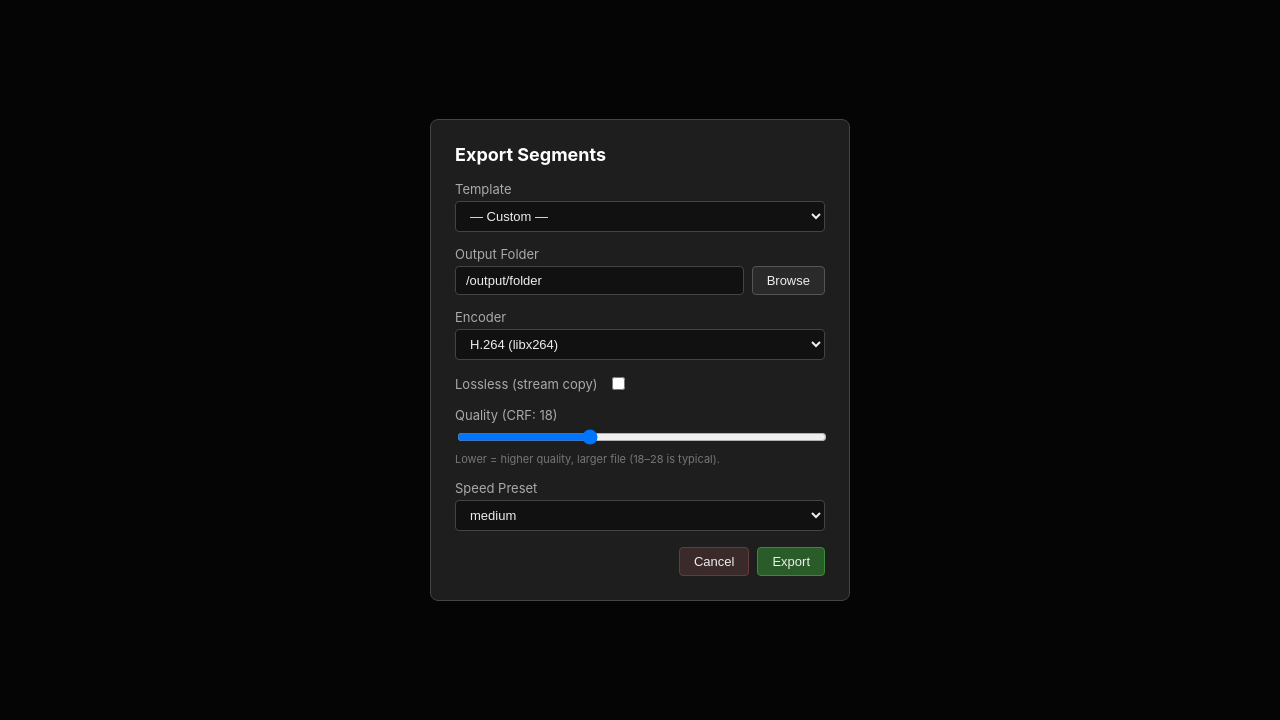
ExportDialog › applying Archive template enables lossless checkbox
This screenshot has width=1280, height=720.
Select "Archive (Lossless stream copy)" in the dropdown named "export template" at [640, 216], box [455,201,825,232]
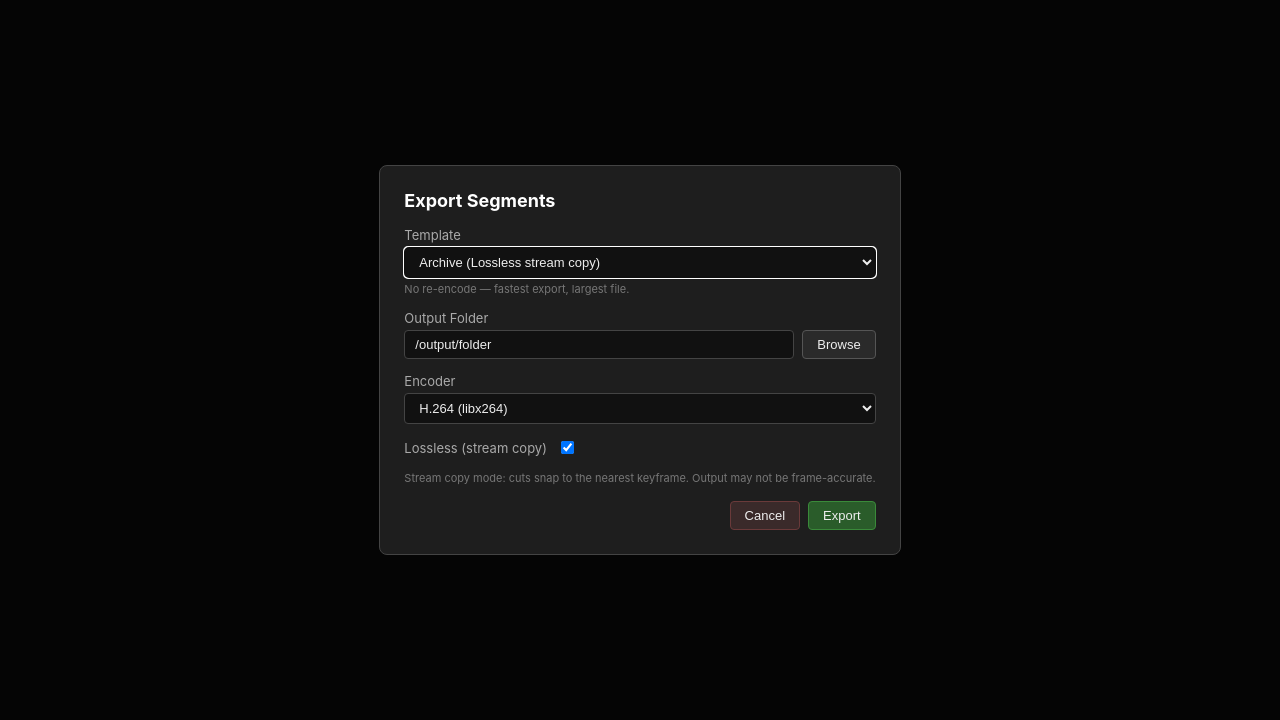
Now the checkbox labelled "Lossless (stream copy)" is checked, box [561,441,574,454]
